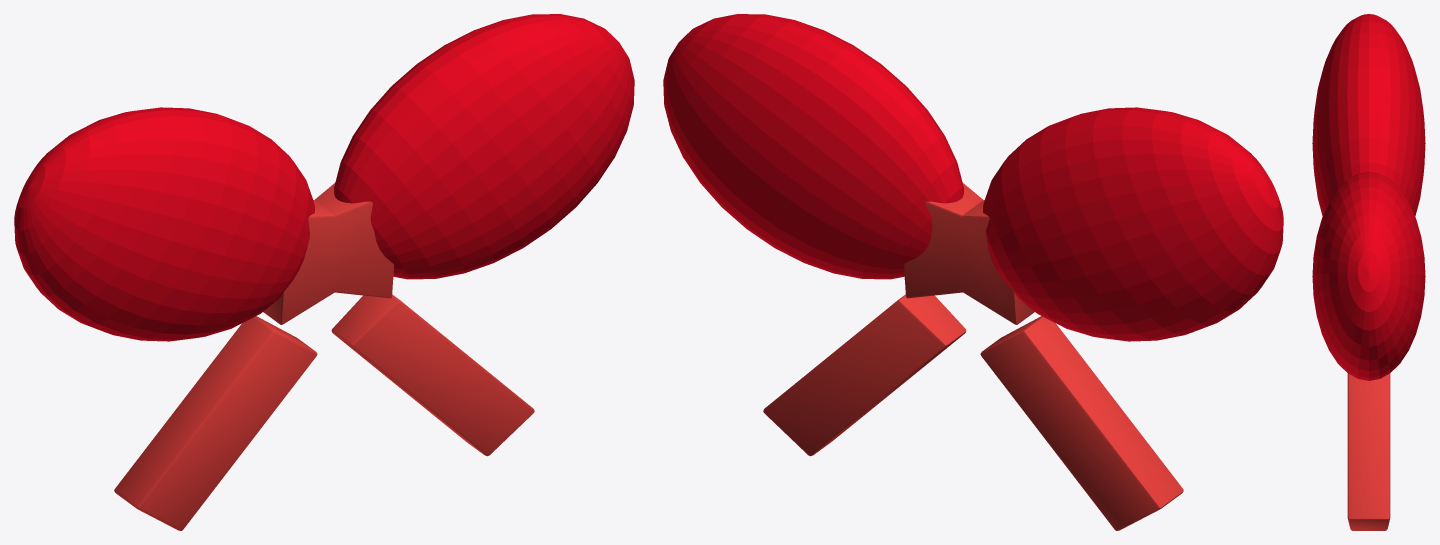
The model's file is 蝴蝶结.glb.
The picture shows the model from 3 angles, left to right: view 1: azimuth 30°, elevation 25°; view 2: azimuth 150°, elevation 25°; view 3: azimuth 270°, elevation 25°; orthographic projection. The views are drawn at different scales.
Visible parts, largest first — view 1: 球体, 立方体; view 2: 球体, 立方体; view 3: 球体, 立方体.
Boxes of the visible parts, x1,y1,x2,y2 form: 球体: (14,14,634,341); 立方体: (114,183,534,530); 球体: (663,14,1283,341); 立方体: (763,183,1183,530); 球体: (1312,14,1425,380); 立方体: (1347,373,1390,530).
Bounding box in the file's own units: 2.48 × 1.62 × 0.4634.
